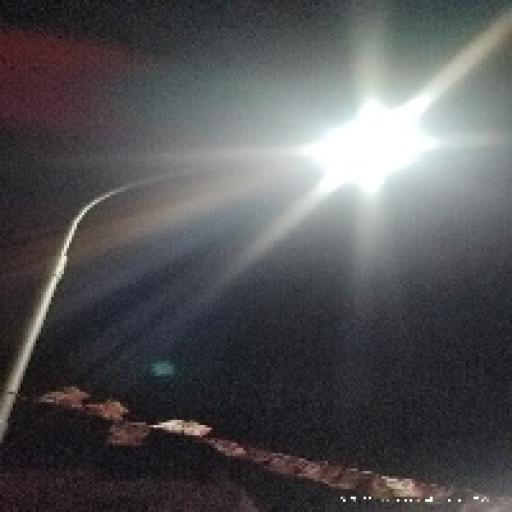Working: (293, 87, 441, 205)
